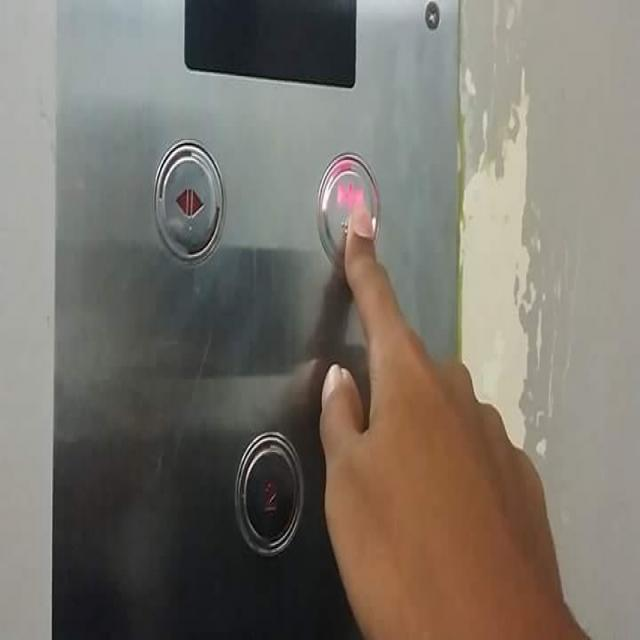2: (234, 428, 305, 559)
close: (316, 149, 380, 271)
open: (154, 137, 224, 259)
